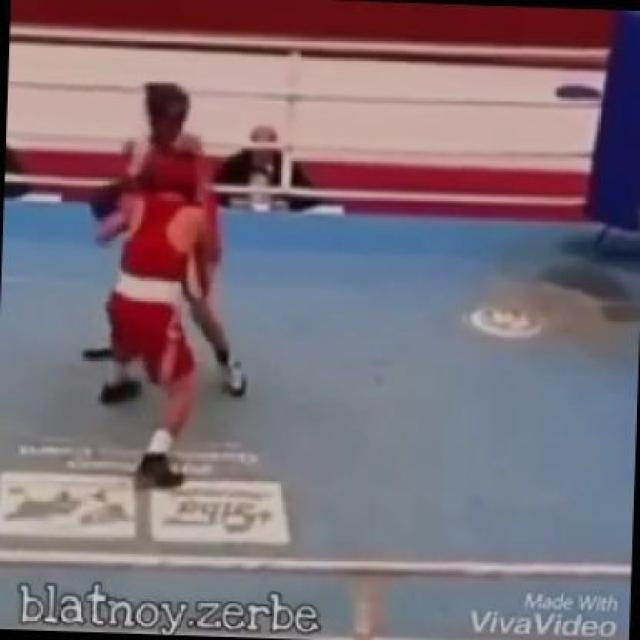fight: (62, 69, 266, 425)
